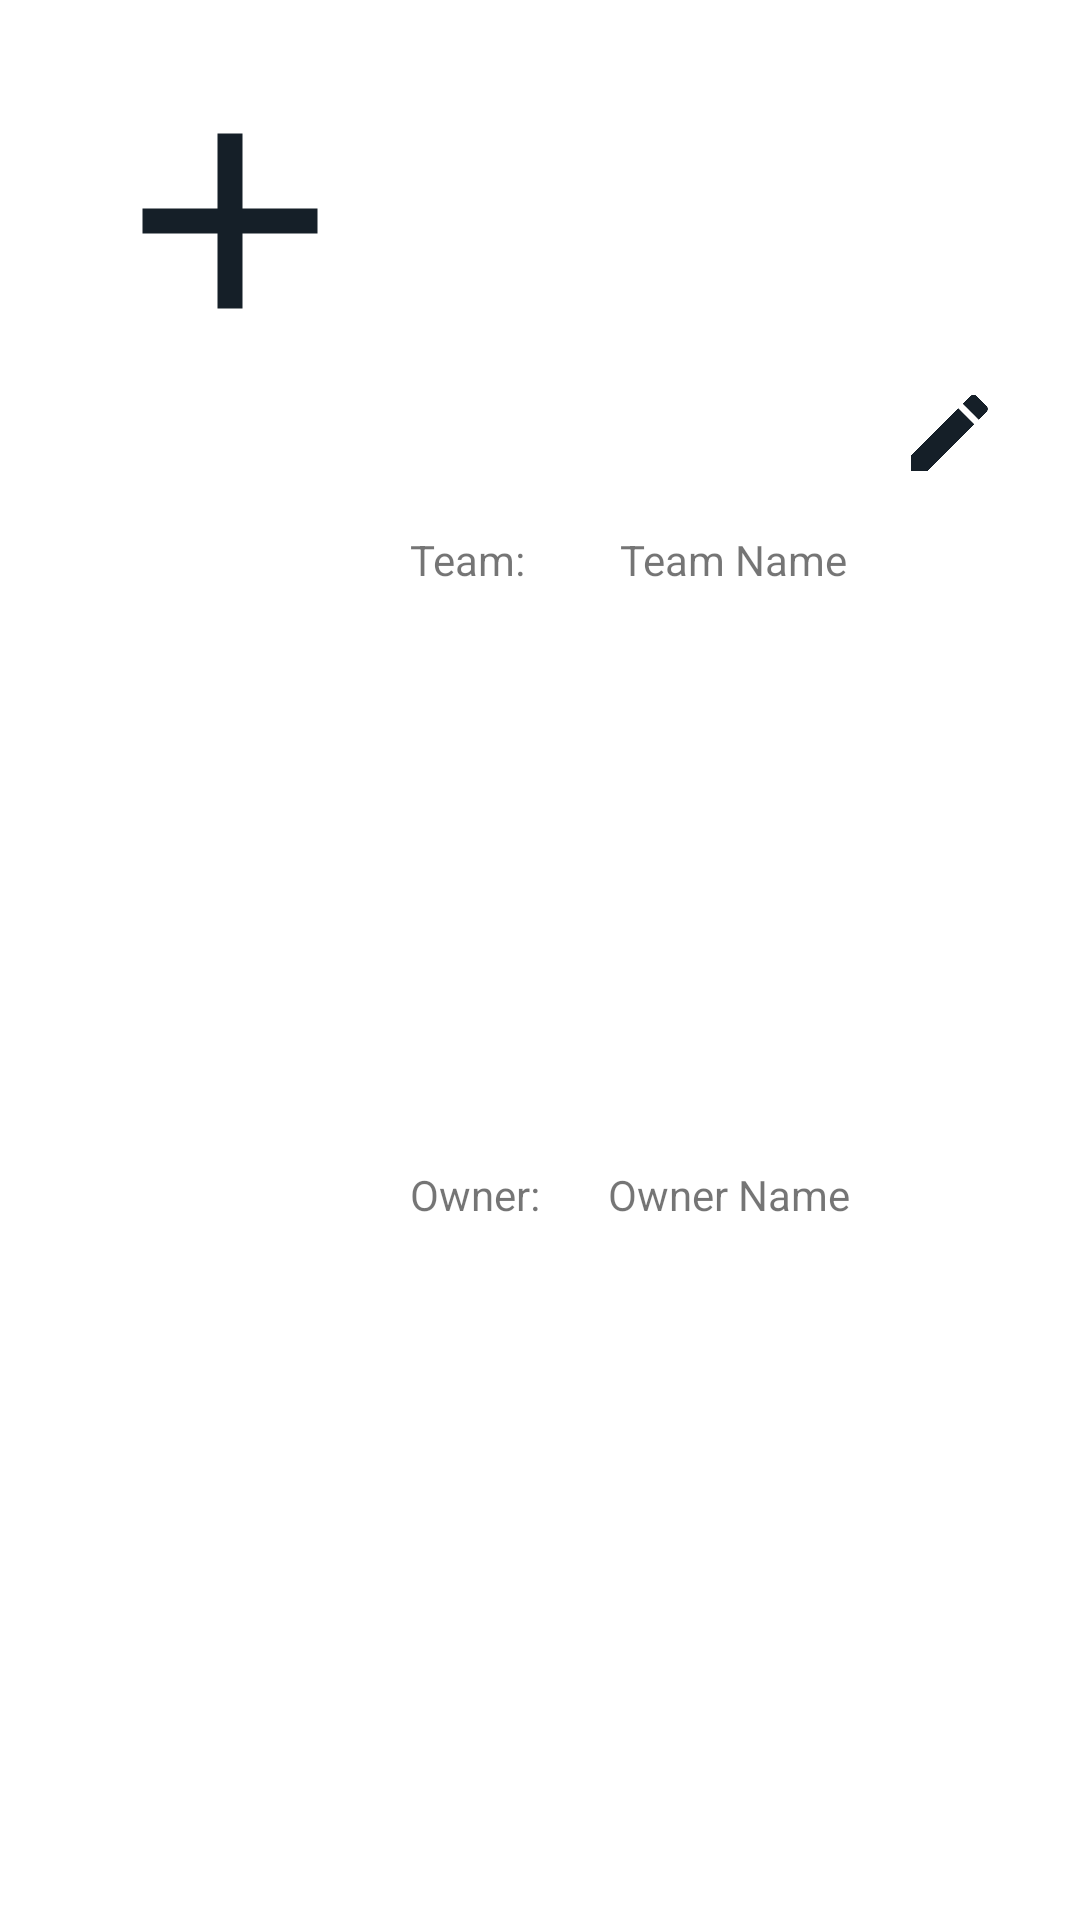

Screen size 1080*1920. Icon name, then its center in pixels as (x=x, y=y):
add: (x=230, y=221)
edit: (x=949, y=433)
